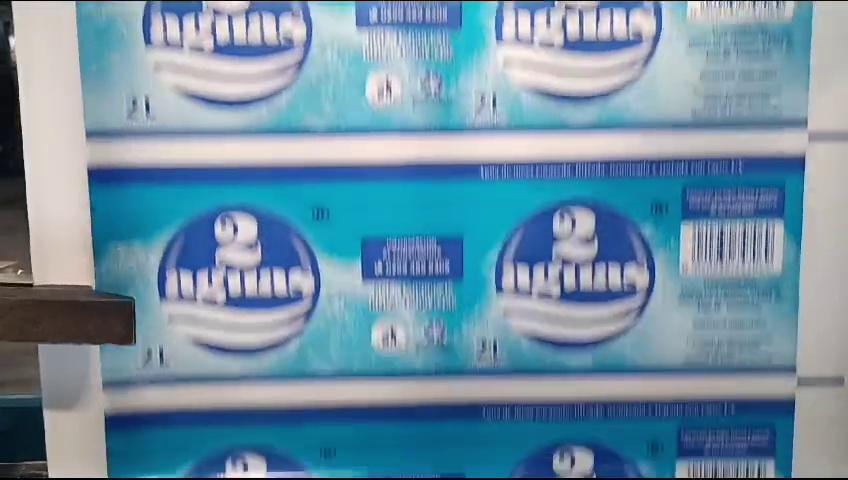print: (77, 153, 808, 389)
